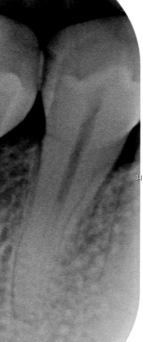tooth: (10, 16, 140, 322)
